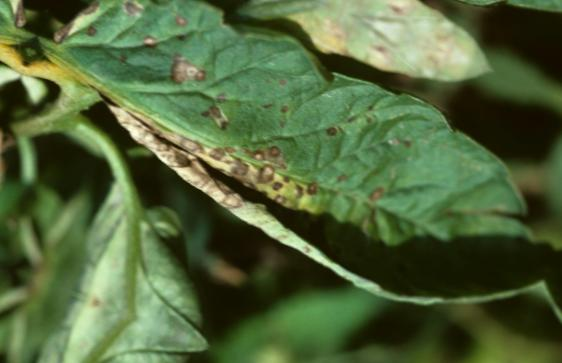Tomato Septoria leaf spot: (7, 0, 562, 354)
